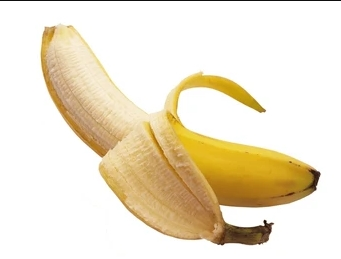peeled banana: (31, 12, 324, 246)
